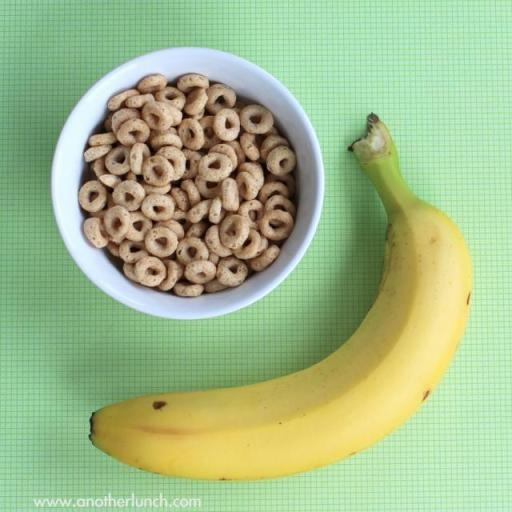fruit: (91, 115, 471, 479)
